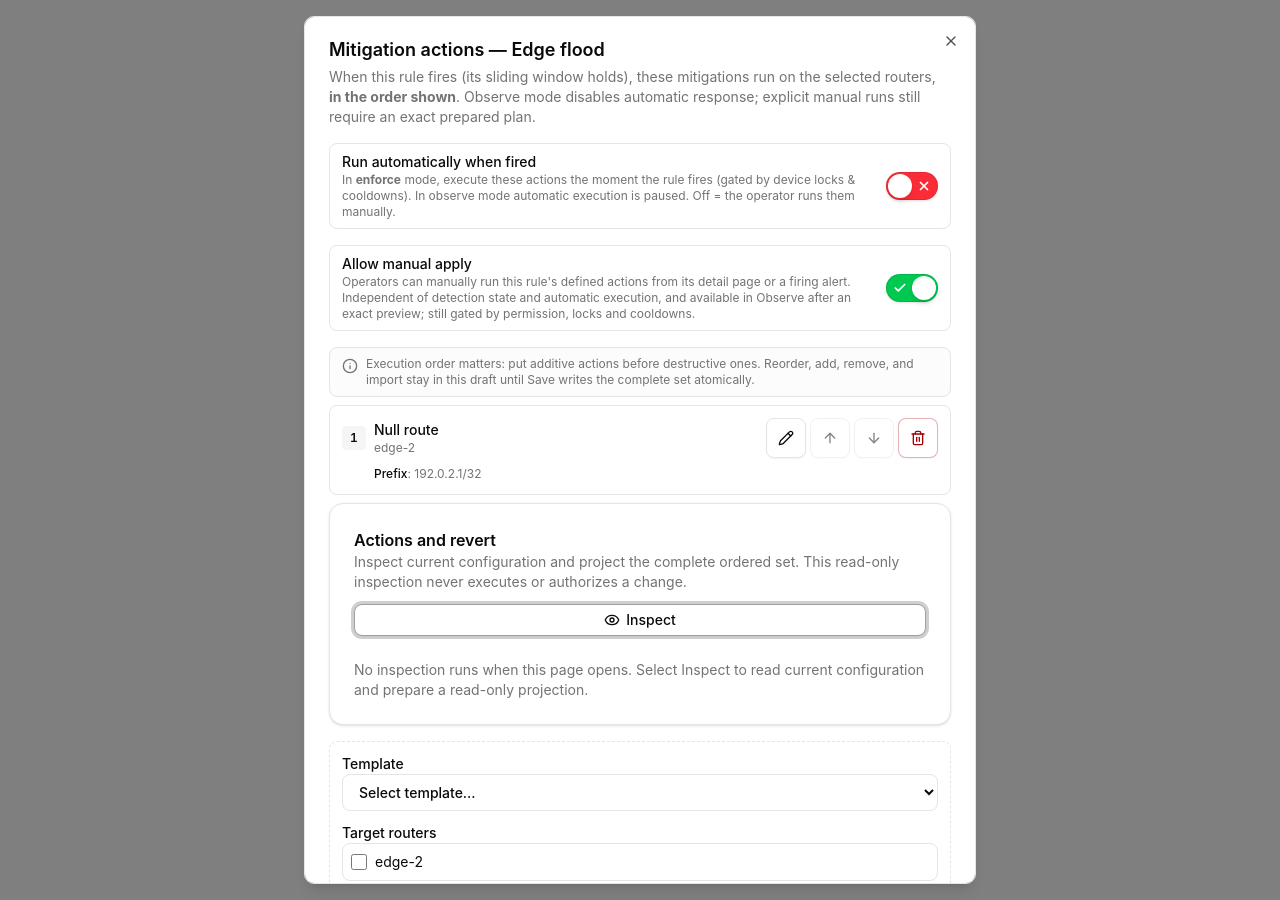
Scenario: RuleActionsDialog › labels only the complete-set save as pending and prevents a duplicate save
Click the button named "Remove action 1" at (918, 438), box [898,418,938,458]
(page scrolled)
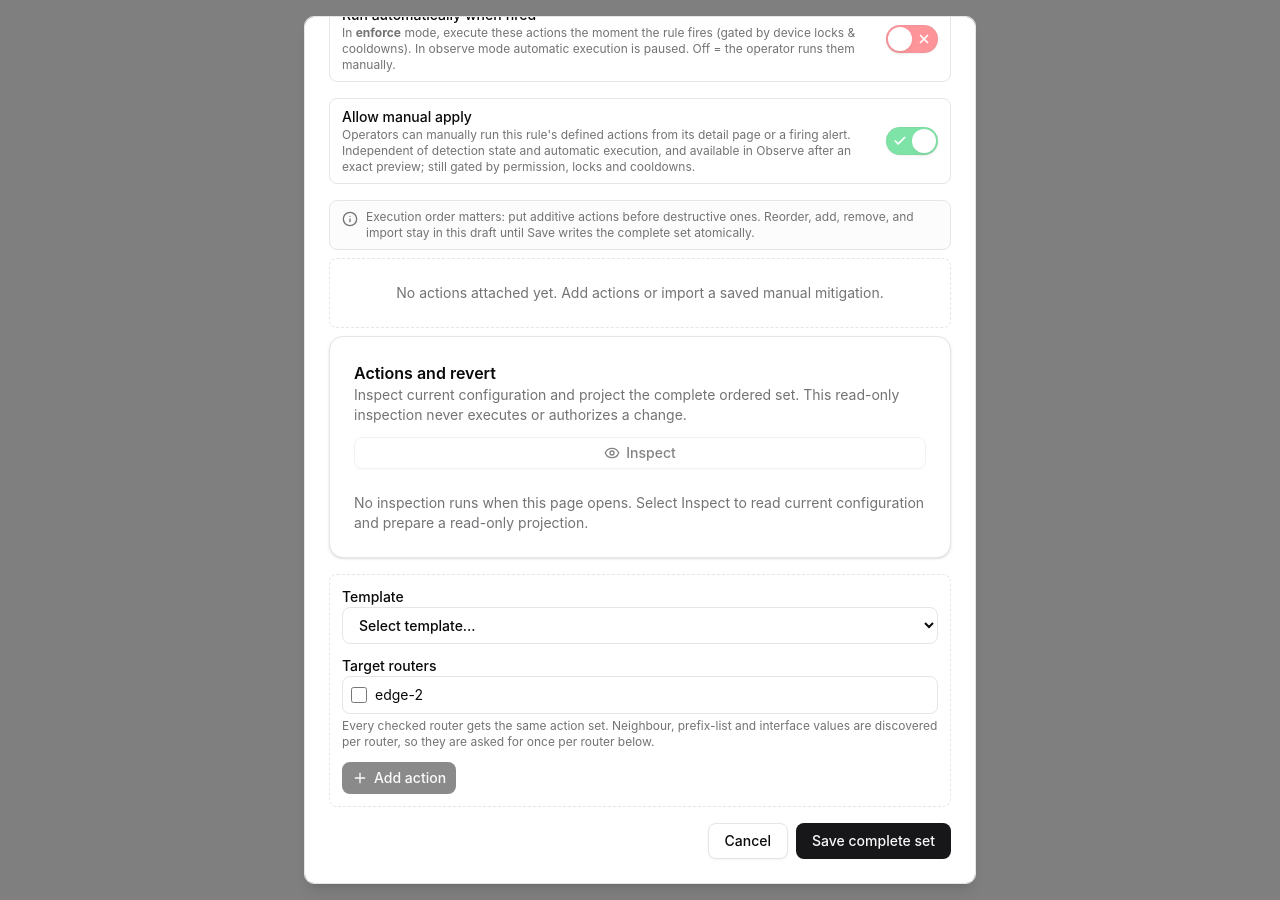
Click the button "Save complete set" at (874, 841), box [796,823,951,859]
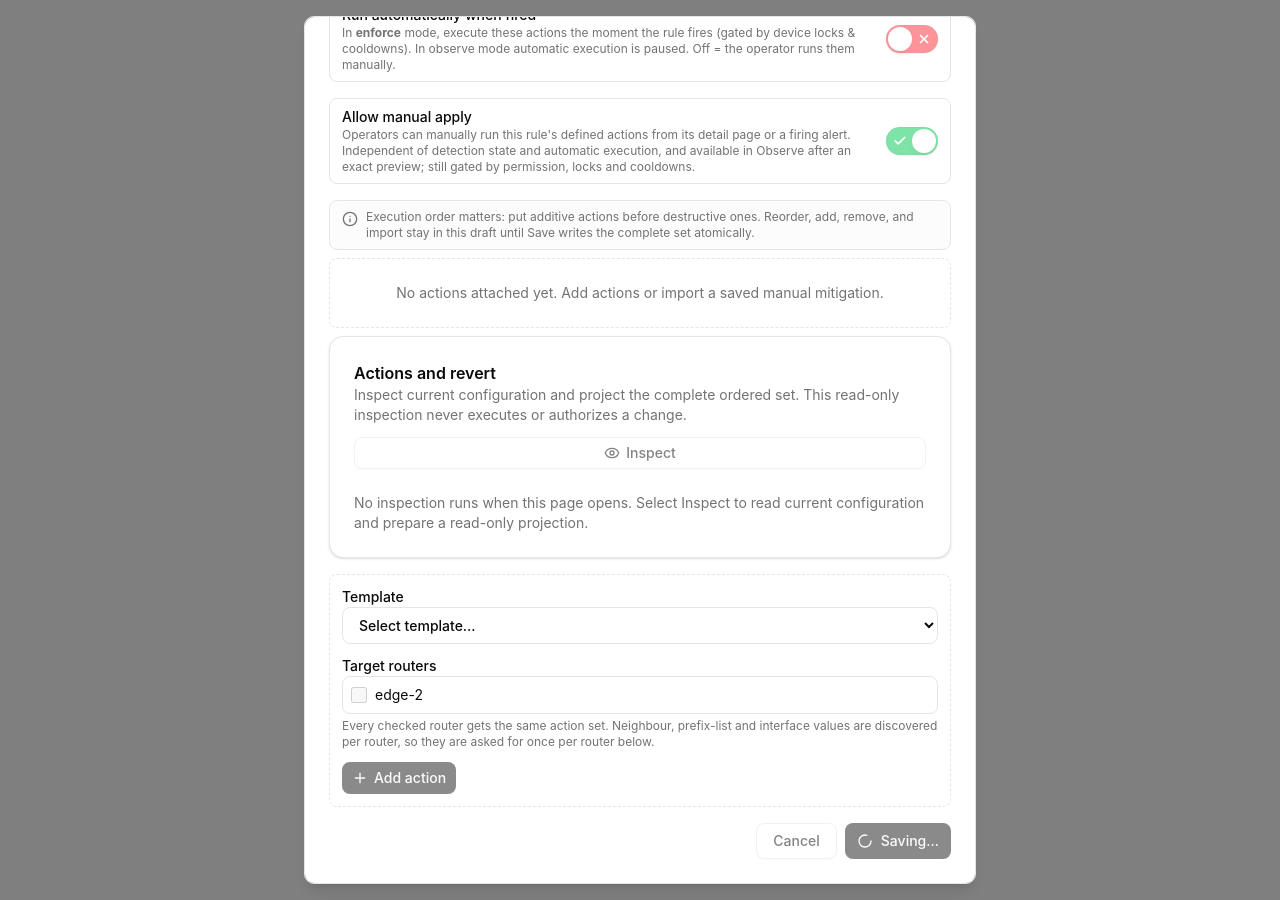
Now the button "Saving…" has attribute aria-busy="true"
Click the button "Saving…" at (898, 841), box [845,823,951,859]
(page scrolled)
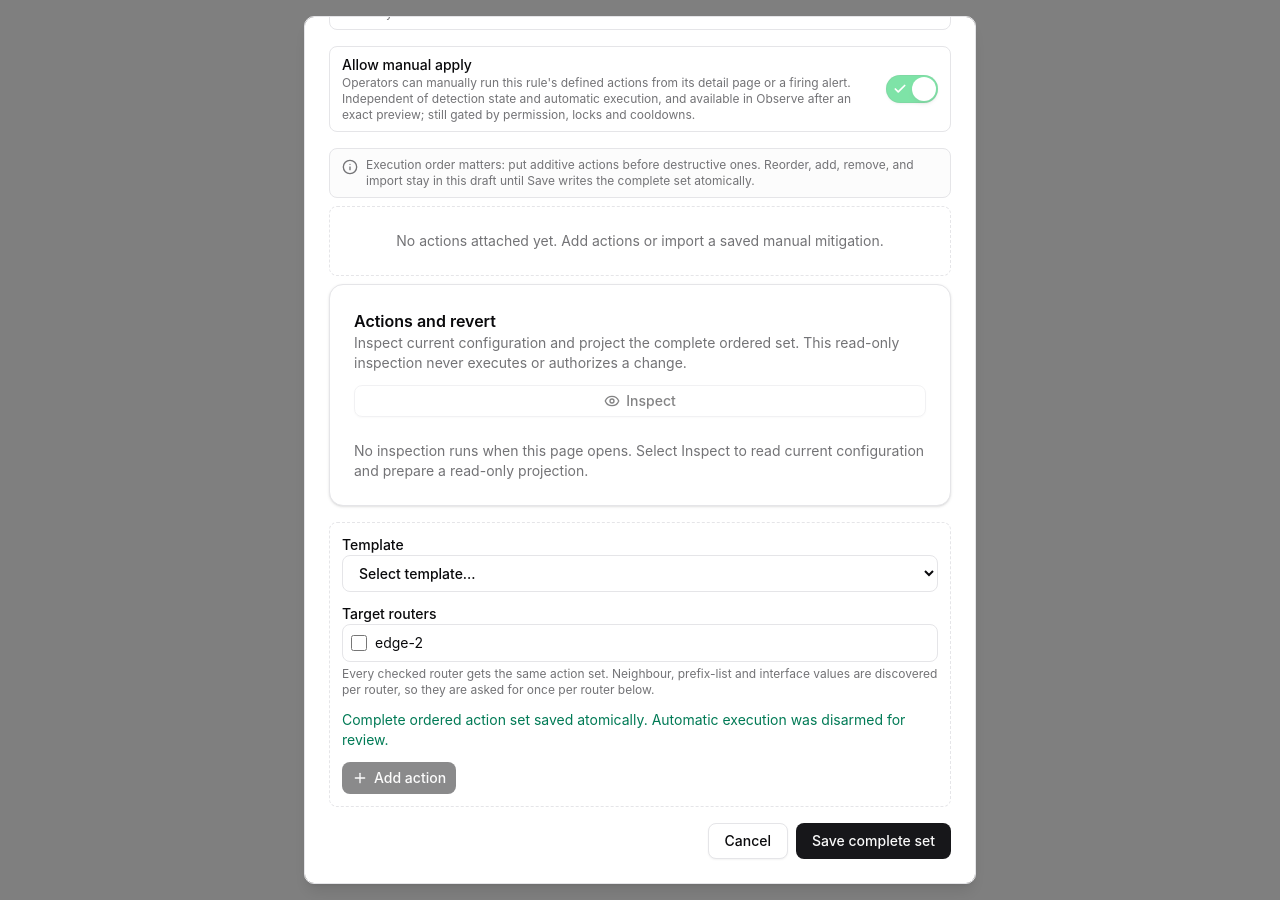
Now the button "Save complete set" is shown, box [796,823,951,859]
